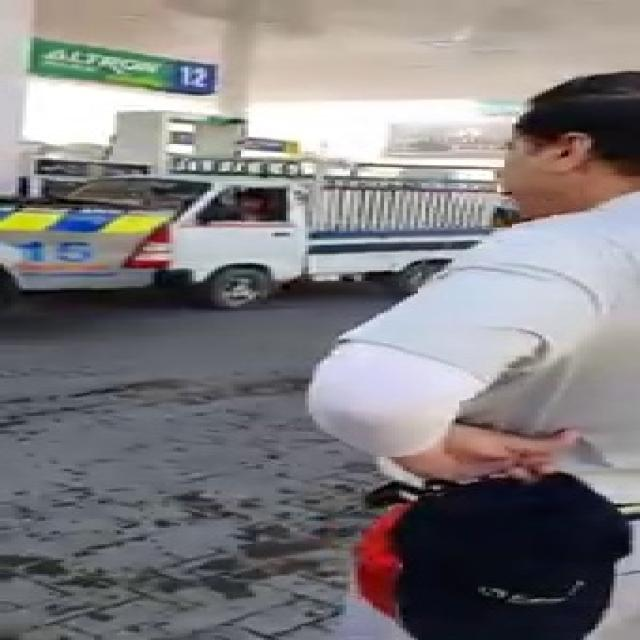police: (0, 196, 188, 310)
